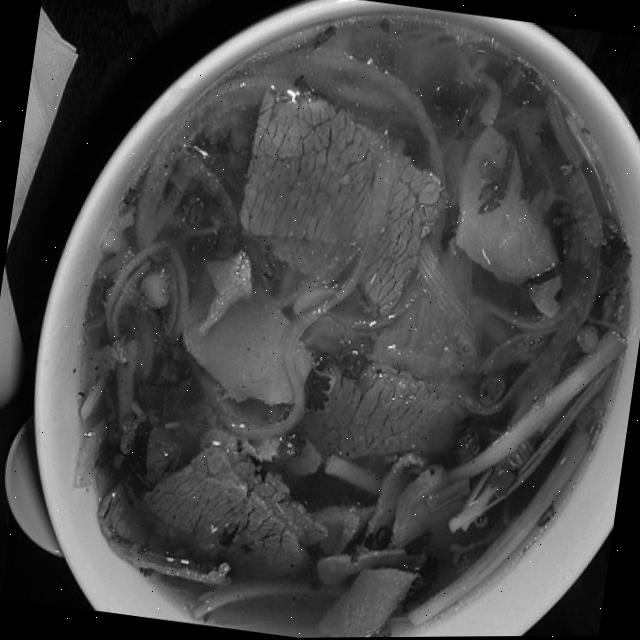面条主食: (6, 0, 640, 640)
